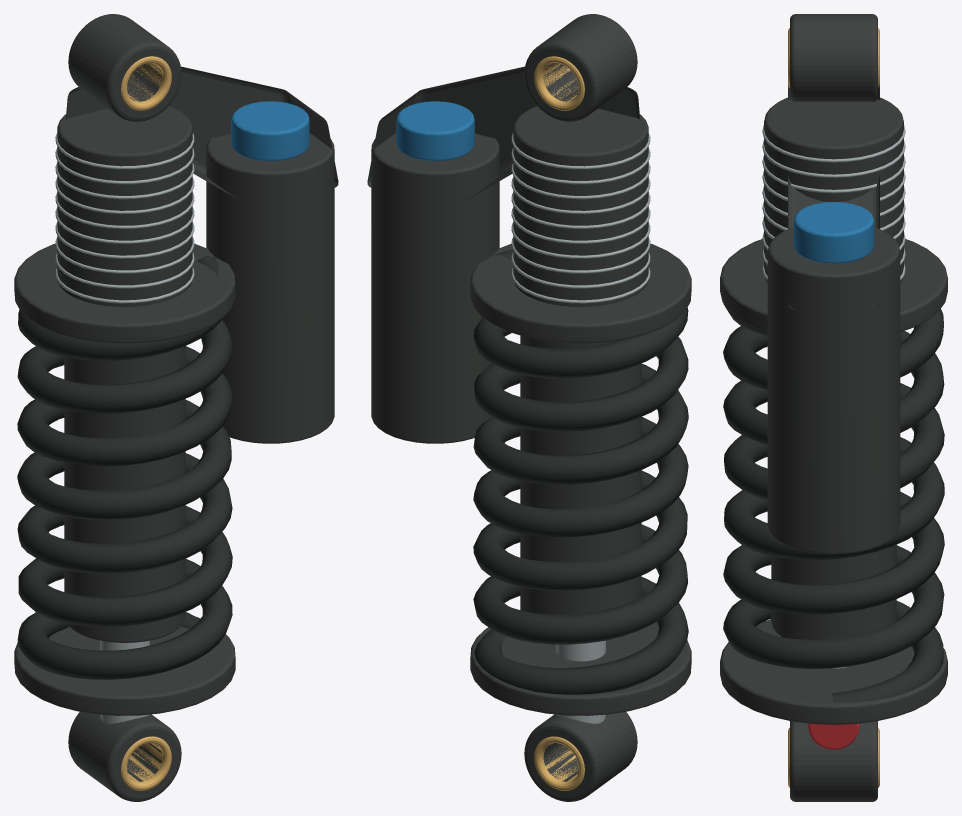
Rendered from marzocchi-bomber-cr--f37a61e0.glb.
The picture shows the model from 3 angles, left to right: view 1: azimuth 30°, elevation 25°; view 2: azimuth 150°, elevation 25°; view 3: azimuth 270°, elevation 25°; orthographic projection. The views are drawn at different scales.
Parts seen in each view (by area): view 1: marzocchi-bomber-cr--f37a61e0__link, marzocchi-bomber-cr--f37a61e0__coil, marzocchi-bomber-cr--f37a61e0__bolts, marzocchi-bomber-cr--f37a61e0__adjuster, marzocchi-bomber-cr--f37a61e0__stanchions; view 2: marzocchi-bomber-cr--f37a61e0__link, marzocchi-bomber-cr--f37a61e0__coil, marzocchi-bomber-cr--f37a61e0__bolts, marzocchi-bomber-cr--f37a61e0__adjuster, marzocchi-bomber-cr--f37a61e0__stanchions; view 3: marzocchi-bomber-cr--f37a61e0__link, marzocchi-bomber-cr--f37a61e0__coil, marzocchi-bomber-cr--f37a61e0__adjuster, marzocchi-bomber-cr--f37a61e0__bolts, marzocchi-bomber-cr--f37a61e0__rebound, marzocchi-bomber-cr--f37a61e0__stanchions.
Part boxes in pixels (bbox=[...]): marzocchi-bomber-cr--f37a61e0__link: bbox=[14, 14, 338, 801]; marzocchi-bomber-cr--f37a61e0__coil: bbox=[17, 255, 232, 679]; marzocchi-bomber-cr--f37a61e0__bolts: bbox=[55, 133, 194, 723]; marzocchi-bomber-cr--f37a61e0__adjuster: bbox=[231, 101, 309, 161]; marzocchi-bomber-cr--f37a61e0__stanchions: bbox=[121, 56, 171, 790]; marzocchi-bomber-cr--f37a61e0__link: bbox=[367, 14, 691, 801]; marzocchi-bomber-cr--f37a61e0__coil: bbox=[473, 249, 688, 694]; marzocchi-bomber-cr--f37a61e0__bolts: bbox=[511, 133, 650, 723]; marzocchi-bomber-cr--f37a61e0__adjuster: bbox=[396, 101, 474, 161]; marzocchi-bomber-cr--f37a61e0__stanchions: bbox=[534, 56, 584, 790]; marzocchi-bomber-cr--f37a61e0__link: bbox=[720, 14, 947, 801]; marzocchi-bomber-cr--f37a61e0__coil: bbox=[723, 304, 944, 702]; marzocchi-bomber-cr--f37a61e0__adjuster: bbox=[793, 202, 874, 263]; marzocchi-bomber-cr--f37a61e0__bolts: bbox=[762, 125, 905, 668]; marzocchi-bomber-cr--f37a61e0__rebound: bbox=[808, 723, 859, 749]; marzocchi-bomber-cr--f37a61e0__stanchions: bbox=[788, 28, 879, 787].
Size of the model in its own units: 0.096 by 0.234 by 0.062.
